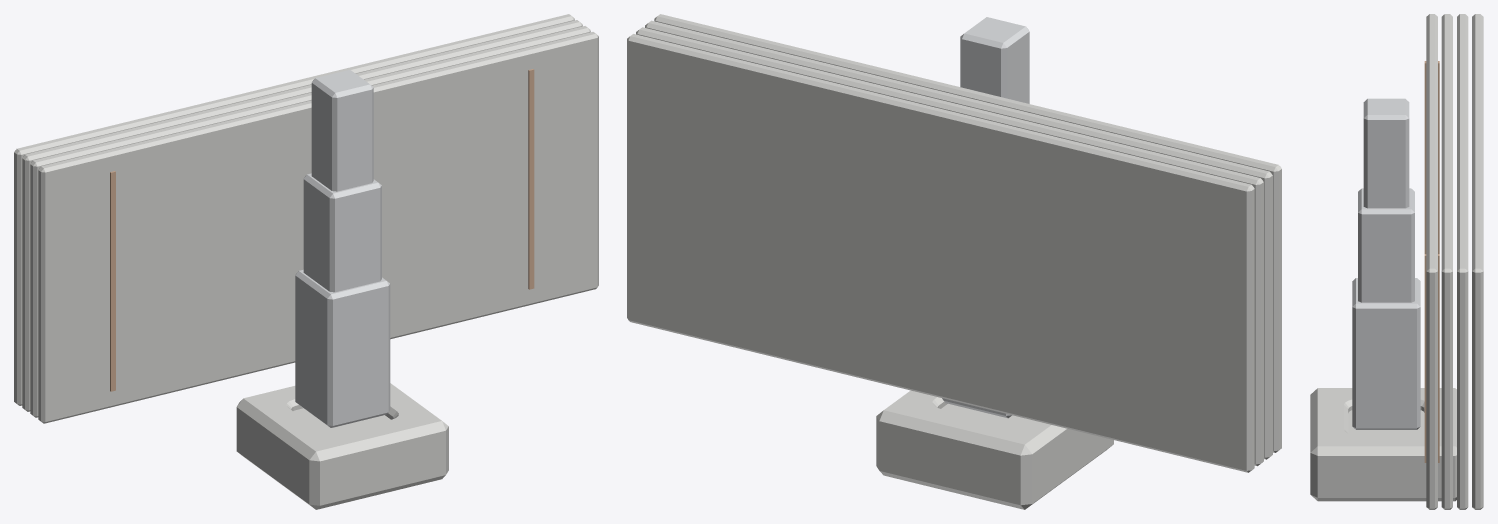
File: ax_power_09_heat_pipe_boom_m.glb
The picture shows the model from 3 angles, left to right: view 1: azimuth 30°, elevation 25°; view 2: azimuth 150°, elevation 25°; view 3: azimuth 270°, elevation 25°; orthographic projection. The views are drawn at different scales.
Parts seen in each view (by area): view 1: panel_1, boom, mount_block, panel_4, panel_3, panel_2, heat_pipes; view 2: panel_4, mount_block, panel_3, panel_1, panel_2, boom; view 3: boom, mount_block, panel_4, panel_1, panel_2, panel_3, heat_pipes.
Boxes of the visible parts, x1,y1,x2,y2 form: panel_1: [38, 32, 598, 423]; boom: [295, 69, 390, 427]; mount_block: [236, 383, 448, 509]; panel_4: [14, 14, 574, 405]; panel_3: [22, 20, 582, 411]; panel_2: [30, 26, 590, 417]; heat_pipes: [110, 69, 534, 391]; panel_4: [627, 34, 1254, 472]; mount_block: [876, 390, 1113, 509]; panel_3: [636, 27, 1263, 466]; panel_1: [654, 14, 1281, 452]; panel_2: [645, 20, 1272, 459]; boom: [942, 17, 1029, 418]; boom: [1352, 98, 1420, 429]; mount_block: [1310, 388, 1456, 501]; panel_4: [1472, 14, 1483, 509]; panel_1: [1426, 14, 1437, 509]; panel_2: [1441, 14, 1452, 509]; panel_3: [1457, 14, 1468, 509]; heat_pipes: [1424, 61, 1439, 462].
Size of the model in its own units: 1.6 by 1.06 by 0.455.
